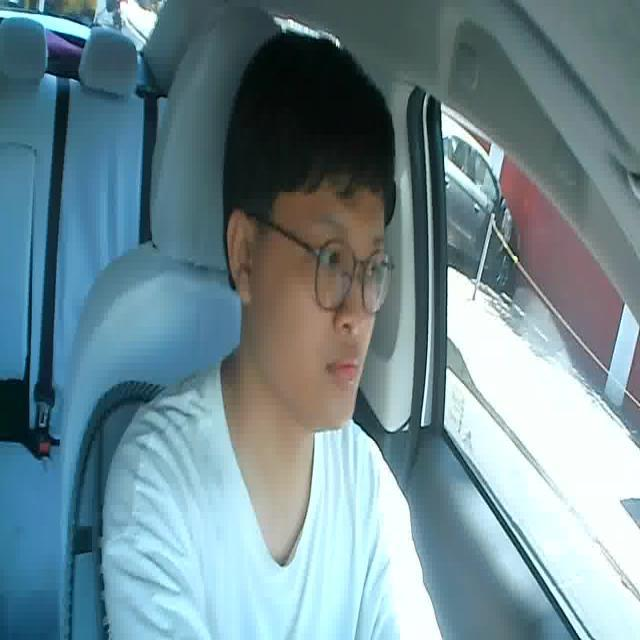Attentive: (223, 29, 390, 433)
Eye-Open: (314, 242, 339, 265), (359, 255, 381, 277)
Normal: (322, 349, 362, 386)
